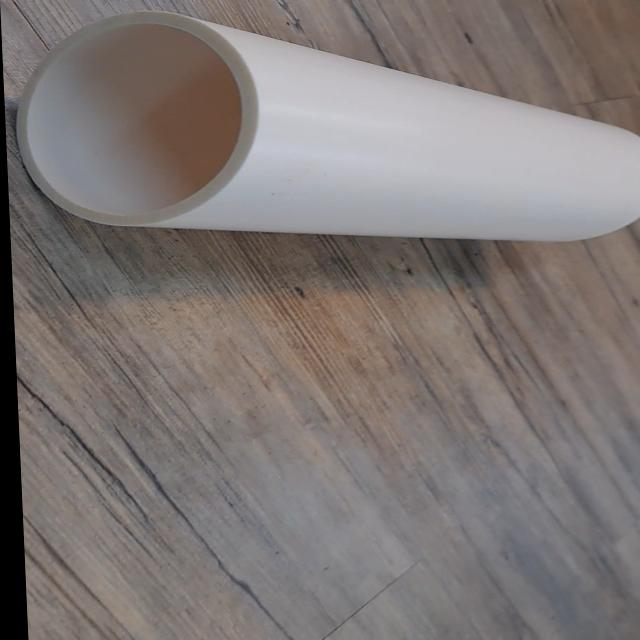CORAL: (6, 0, 640, 288)
